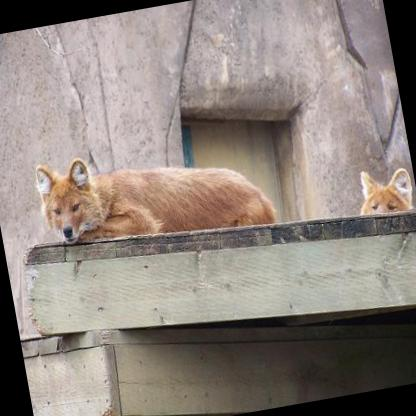dhole: (32, 124, 277, 262), (350, 160, 414, 219)
